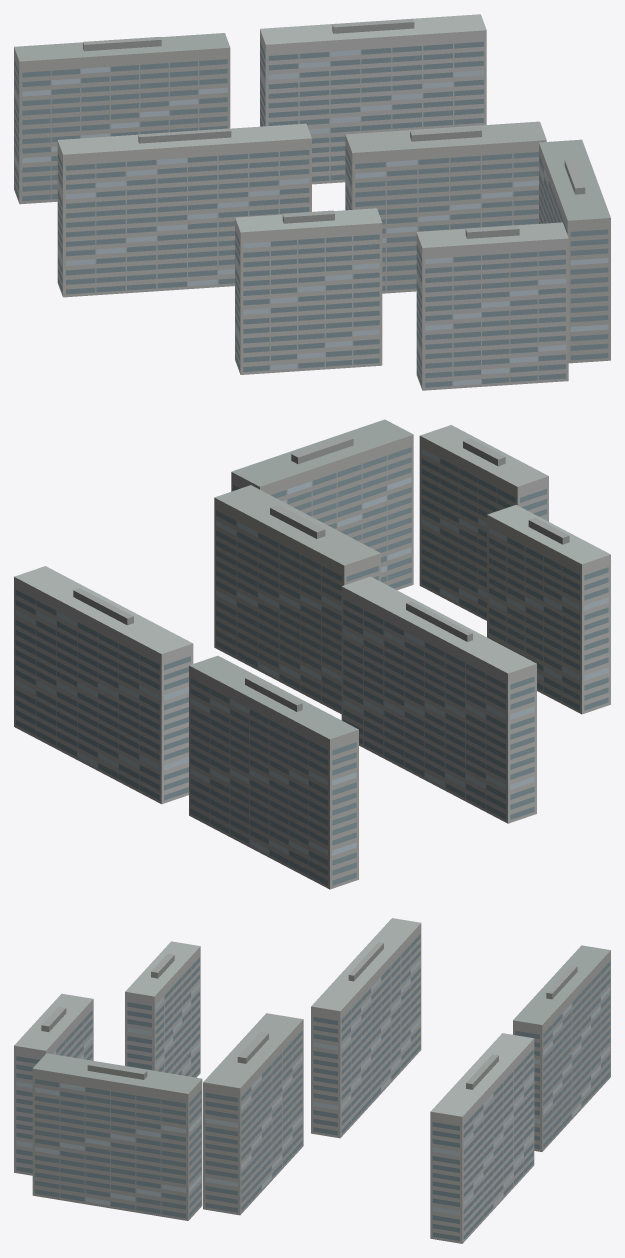
Rendered from apt-a13822902.glb.
3 renders of one model, top to bottom at view 1: azimuth 30°, elevation 25°; view 2: azimuth 150°, elevation 25°; view 3: azimuth 270°, elevation 25°, orthographic. The views are drawn at different scales.
Parts seen in each view (by area): view 1: apt-a13822902; view 2: apt-a13822902; view 3: apt-a13822902.
Part boxes in pixels (x1,y1,x2,y2): apt-a13822902: (14, 14, 610, 390); apt-a13822902: (14, 419, 610, 889); apt-a13822902: (14, 918, 610, 1243).
Size of the model in its own units: 153 by 47.81 by 195.
